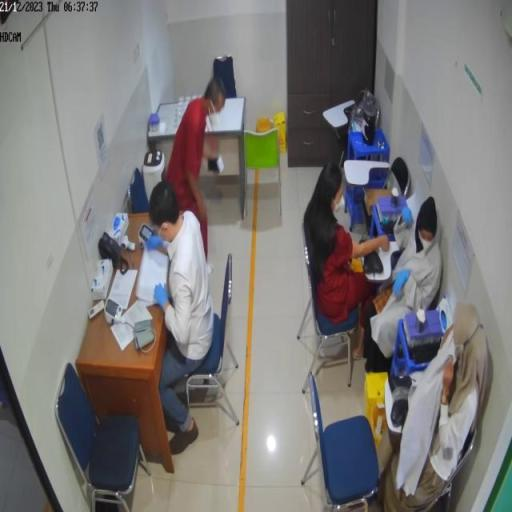person: (376, 302, 488, 512), (149, 180, 215, 452), (304, 162, 391, 360), (166, 76, 228, 263), (372, 197, 444, 353)
